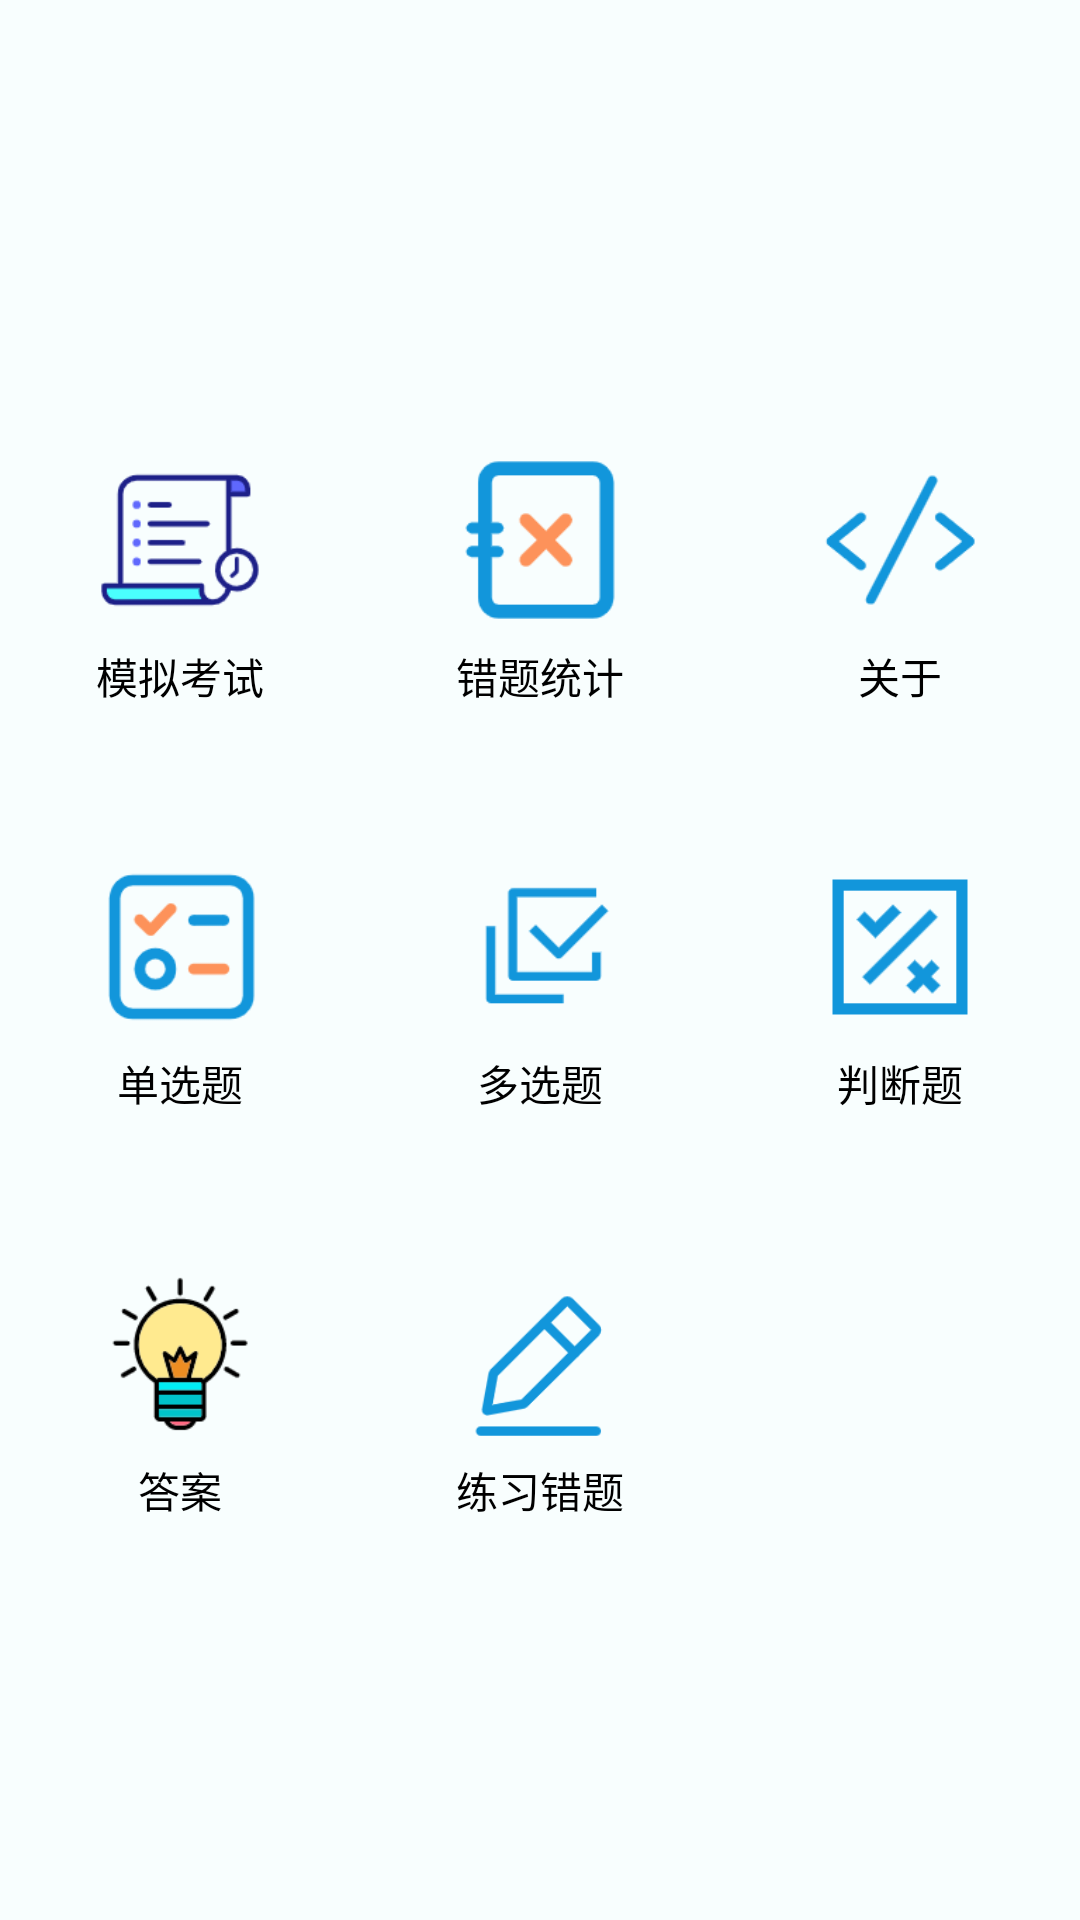

Where to tap for icons on this 1080 × 1920 app screen, as (x=x, y=y):
judge: (x=900, y=947)
multiple: (x=547, y=945)
